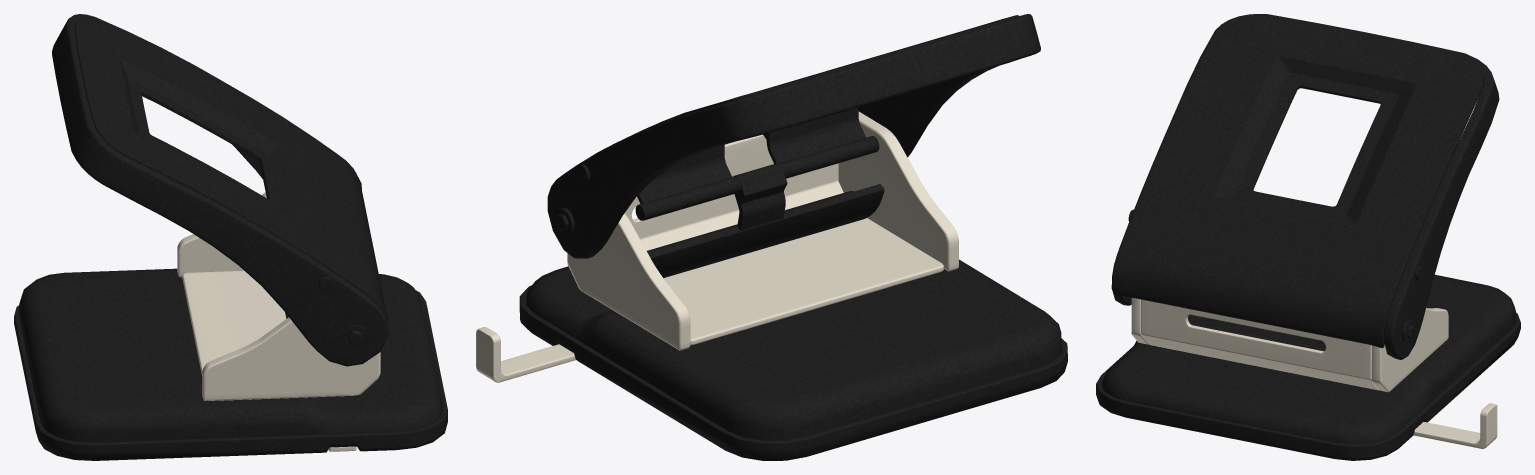
Rendered from hole_puncher.fbx.
3 renders of one model, left to right at view 1: azimuth 30°, elevation 25°; view 2: azimuth 150°, elevation 25°; view 3: azimuth 270°, elevation 25°, orthographic. The views are drawn at different scales.
Visible parts, largest first — view 1: hole_puncher; view 2: hole_puncher; view 3: hole_puncher.
Part boxes in pixels (x1=…): hole_puncher: x1=14, y1=14, x2=447, y2=460; hole_puncher: x1=476, y1=14, x2=1067, y2=460; hole_puncher: x1=1096, y1=14, x2=1520, y2=460.
Size of the model in its own units: 109 by 76.52 by 104.
2 materials, 1 textured.
